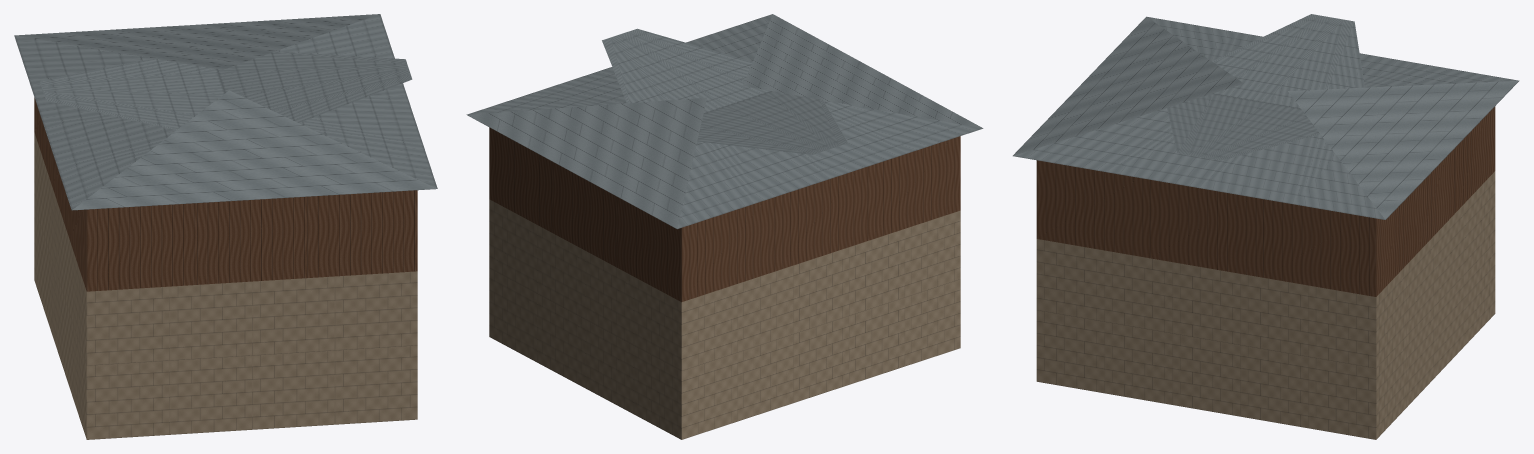
The model's file is bld_c9_30_419.gltf.
3 renders of one model, left to right at view 1: azimuth 30°, elevation 25°; view 2: azimuth 150°, elevation 25°; view 3: azimuth 270°, elevation 25°, orthographic. The views are drawn at different scales.
Visible parts, largest first — view 1: bld_c9_30_419; view 2: bld_c9_30_419; view 3: bld_c9_30_419.
Boxes of the visible parts, box(x1,y1,x2,y2) form: bld_c9_30_419: box(14, 14, 437, 439); bld_c9_30_419: box(466, 14, 983, 439); bld_c9_30_419: box(1013, 14, 1519, 439).
Size of the model in its own units: 14.09 by 8.4 by 14.84.
3 materials, 3 textured.
